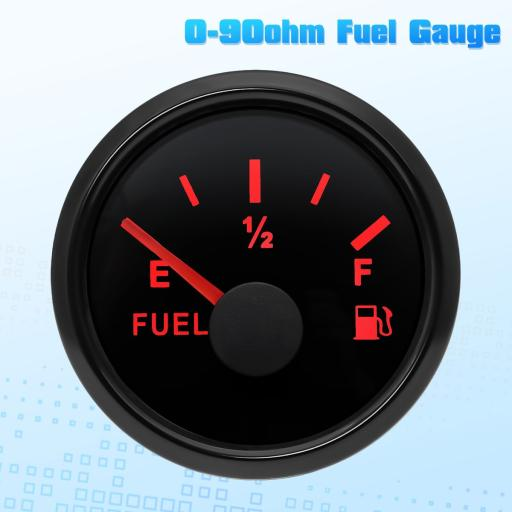empty: (138, 256, 172, 295)
fuel_icon: (341, 299, 399, 351)
full: (348, 256, 378, 293)
guage_area: (46, 64, 466, 486)
needle_center: (198, 277, 307, 385)
needle_tip: (117, 210, 155, 248)
